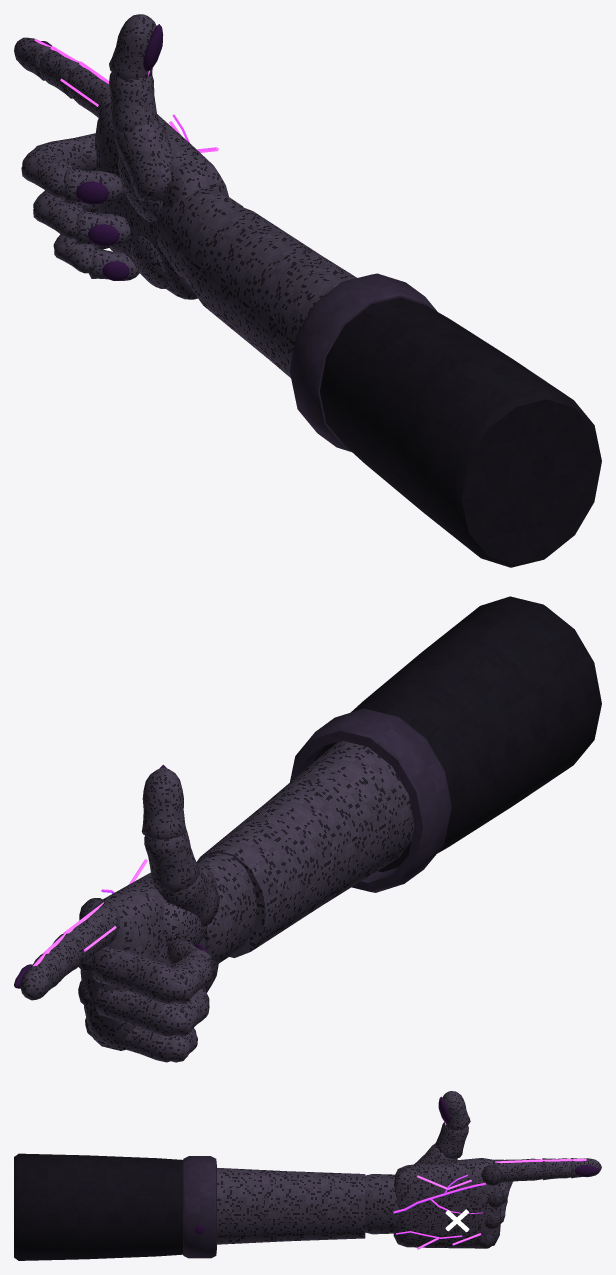
File: w_bloodcross_shadow.glb
3 renders of one model, top to bottom at view 1: azimuth 30°, elevation 25°; view 2: azimuth 150°, elevation 25°; view 3: azimuth 270°, elevation 25°, orthographic. The views are drawn at different scales.
Parts seen in each view (by area): view 1: bc_arm, bc_palm_wzA, bc_thumb0_wzA, bc_thumb1_wzB, bc_thumb2_wzB, bc_mid1_wzA, bc_ring1_wzA, bc_index0_wzB, bc_mid0_wzA, bc_mid2_wzA, bc_ring2_wzA, bc_index1_wzB (+3 smaller); view 2: bc_arm, bc_palm_wzA, bc_mid0_wzA, bc_ring0_wzA, bc_thumb2_wzB, bc_thumb1_wzB, bc_thumb0_wzA, bc_index0_wzB, bc_pinky0_wzA, bc_index2_wzB, bc_mid1_wzA, bc_index1_wzB (+2 smaller); view 3: bc_arm, bc_palm_wzA, bc_back_fx_wzN, bc_index0_wzB, bc_thumb1_wzB, bc_thumb2_wzB, bc_index1_wzB, bc_thumb0_wzA, bc_index2_wzB.
Boxes of the visible parts, left/top/right/bottom form: bc_arm: left=155, top=187, right=601, bottom=567; bc_palm_wzA: left=94, top=102, right=228, bottom=299; bc_thumb0_wzA: left=114, top=120, right=172, bottom=201; bc_thumb1_wzB: left=109, top=72, right=158, bottom=132; bc_thumb2_wzB: left=109, top=14, right=156, bottom=81; bc_mid1_wzA: left=21, top=147, right=74, bottom=197; bc_ring1_wzA: left=33, top=192, right=84, bottom=239; bc_index0_wzB: left=66, top=65, right=110, bottom=117; bc_mid0_wzA: left=22, top=133, right=96, bottom=170; bc_mid2_wzA: left=63, top=167, right=124, bottom=203; bc_ring2_wzA: left=75, top=210, right=130, bottom=245; bc_index1_wzB: left=39, top=49, right=80, bottom=98; bc_arm: left=196, top=596, right=601, bottom=963; bc_palm_wzA: left=78, top=864, right=218, bottom=1050; bc_mid0_wzA: left=91, top=946, right=187, bottom=1003; bc_ring0_wzA: left=95, top=988, right=187, bottom=1036; bc_thumb2_wzB: left=141, top=767, right=186, bottom=839; bc_thumb1_wzB: left=144, top=830, right=199, bottom=892; bc_thumb0_wzA: left=158, top=863, right=219, bottom=927; bc_index0_wzB: left=69, top=902, right=119, bottom=964; bc_pinky0_wzA: left=121, top=1026, right=184, bottom=1062; bc_index2_wzB: left=20, top=953, right=61, bottom=1000; bc_mid1_wzA: left=171, top=954, right=212, bottom=1003; bc_index1_wzB: left=42, top=933, right=83, bottom=981; bc_arm: left=14, top=1153, right=400, bottom=1260; bc_palm_wzA: left=393, top=1158, right=504, bottom=1248; bc_back_fx_wzN: left=393, top=1174, right=485, bottom=1249; bc_index0_wzB: left=492, top=1158, right=542, bottom=1182; bc_thumb1_wzB: left=435, top=1122, right=468, bottom=1158; bc_thumb2_wzB: left=442, top=1091, right=470, bottom=1130; bc_index1_wzB: left=542, top=1158, right=570, bottom=1180; bc_thumb0_wzA: left=414, top=1144, right=457, bottom=1164; bc_index2_wzB: left=570, top=1158, right=601, bottom=1178.
Size of the model in its own units: 0.0917 by 0.151 by 0.4985.
9 materials, 5 textured.
